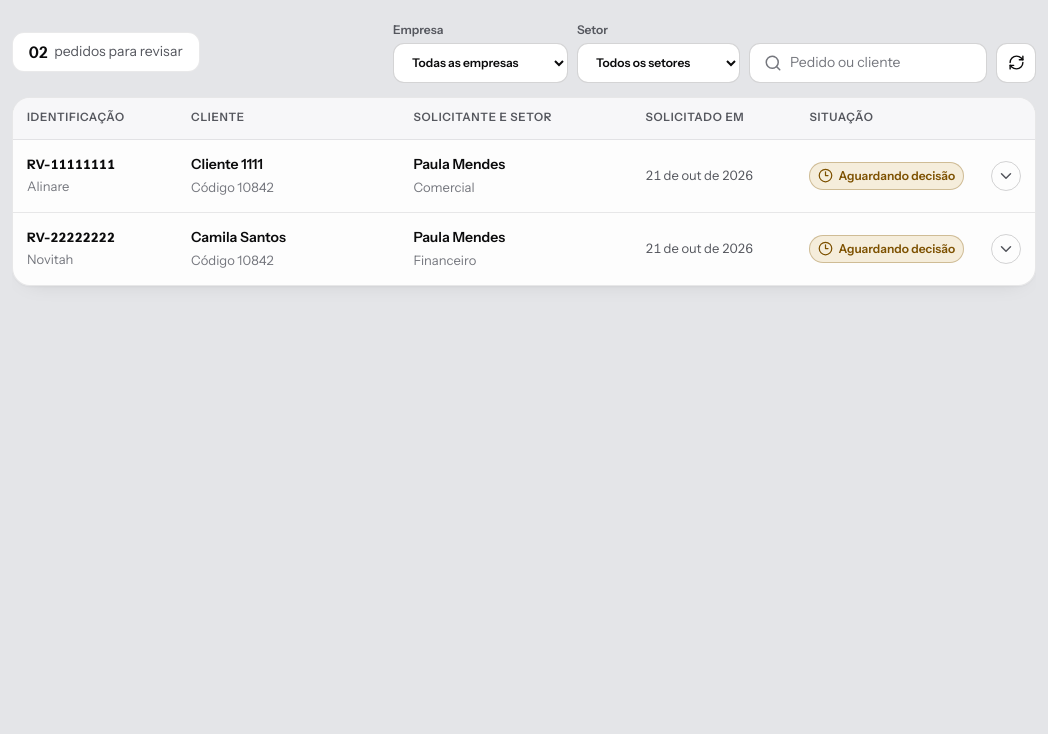
Test: ApprovalQueuePage › registra aprovação pela operação segura e remove a linha após confirmação
Expected: the text "RV-11111111" is shown, [27,154,115,174]
Click the button "RV-11111111": (71, 164) [13,140,1035,212]
(page scrolled)
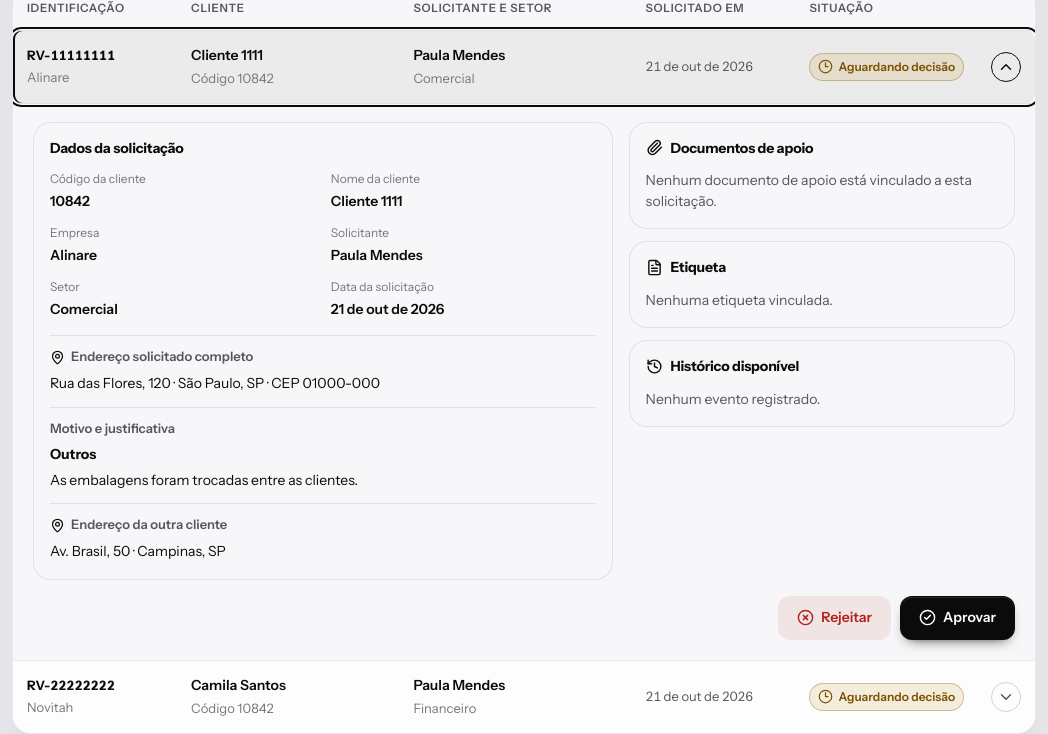
Click the button "Aprovar": (958, 618) [900,596,1015,640]
(page scrolled)
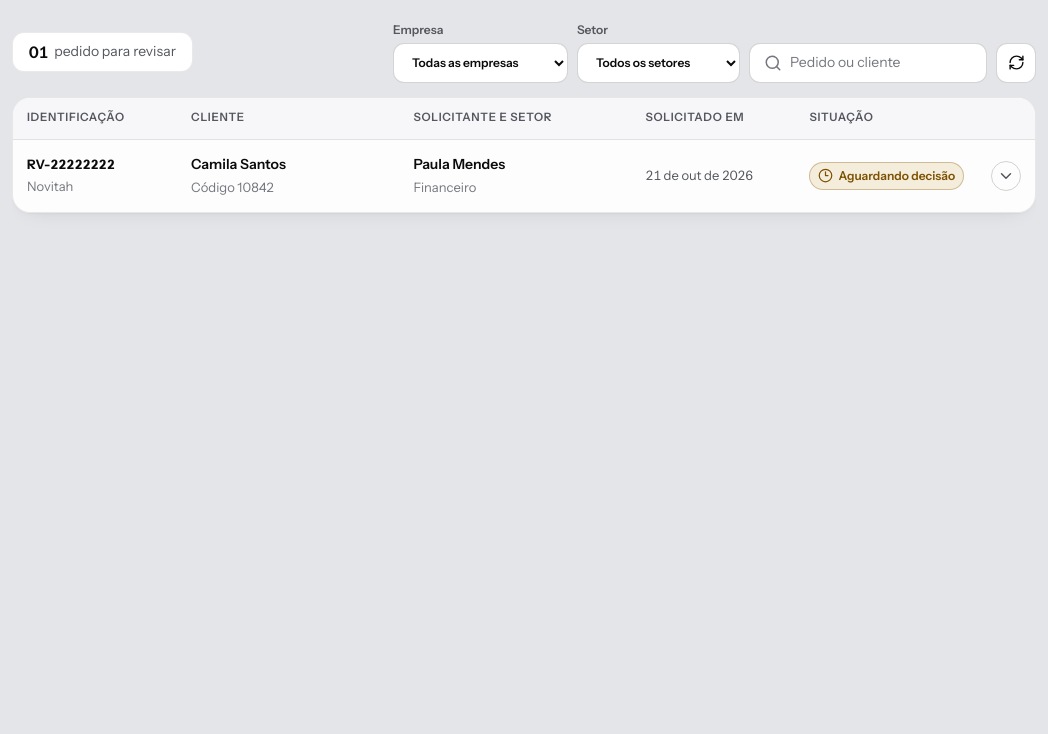
Result: the button "RV-11111111" is gone
